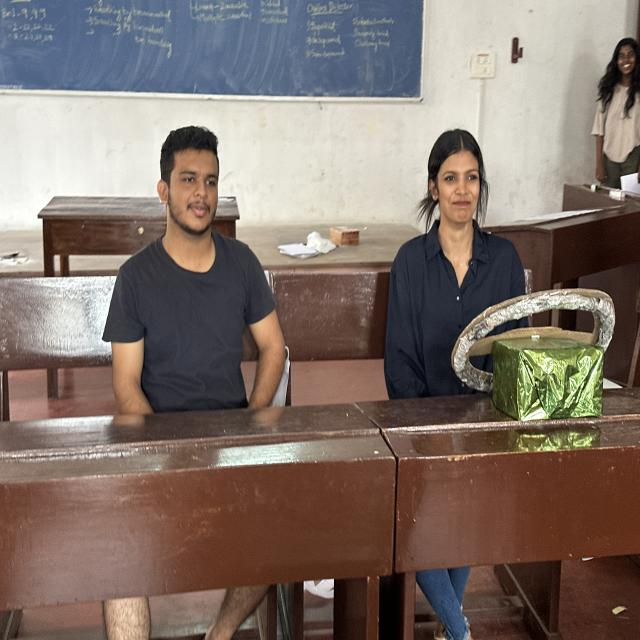Helmet: (113, 236, 294, 423), (387, 236, 539, 404)
